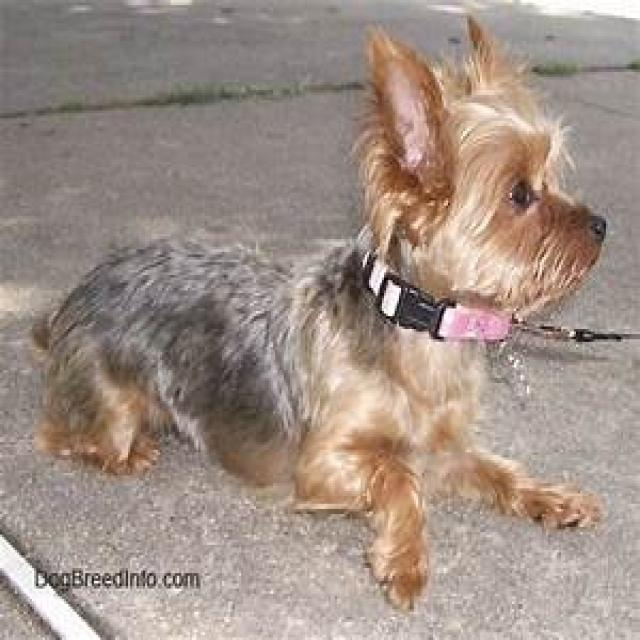animal: (28, 8, 610, 612)
